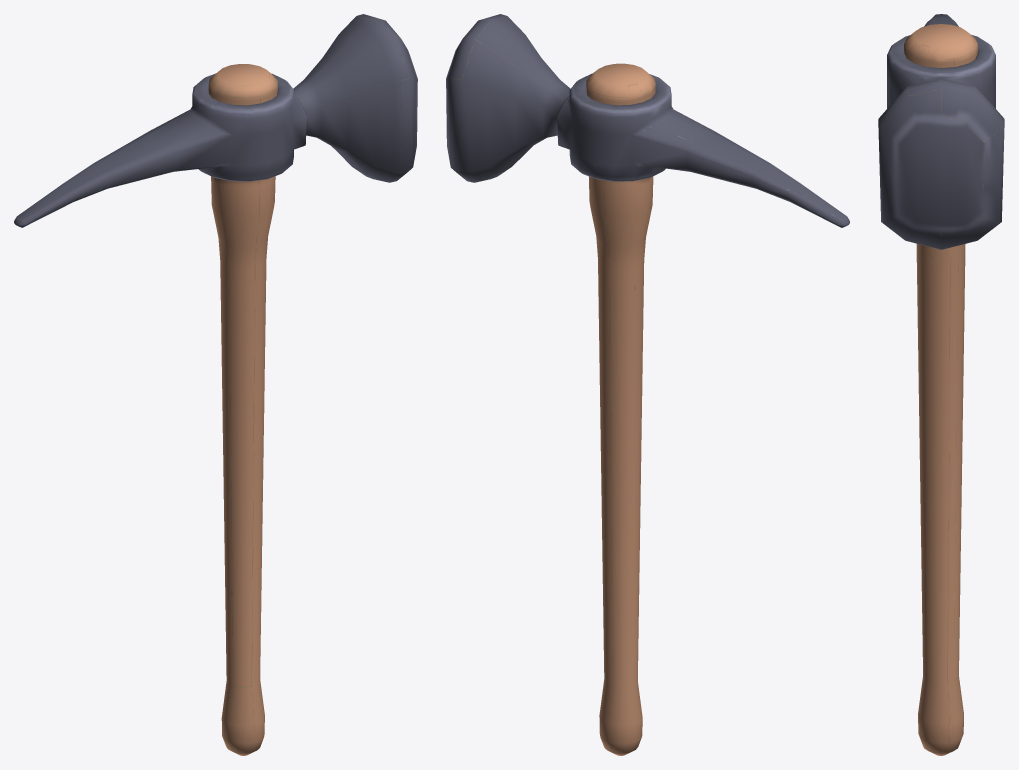
File: PicaretaMarteloGenerica.fbx
3 renders of one model, left to right at view 1: azimuth 30°, elevation 25°; view 2: azimuth 150°, elevation 25°; view 3: azimuth 270°, elevation 25°, orthographic. The views are drawn at different scales.
Visible parts, largest first — view 1: Picareta-martelo generica; view 2: Picareta-martelo generica; view 3: Picareta-martelo generica.
Boxes of the visible parts, bbox=[...] form: Picareta-martelo generica: bbox=[14, 14, 417, 755]; Picareta-martelo generica: bbox=[446, 14, 849, 755]; Picareta-martelo generica: bbox=[878, 14, 1004, 755].
Bounding box in the file's own units: 61.31 × 108 × 16.61.
Materials: 1 (1 with a texture image).
